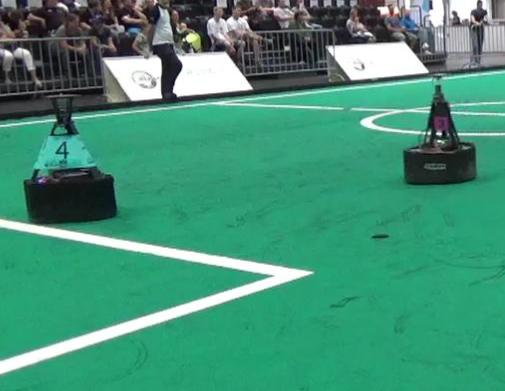robot: (21, 95, 119, 224), (397, 71, 480, 186)
